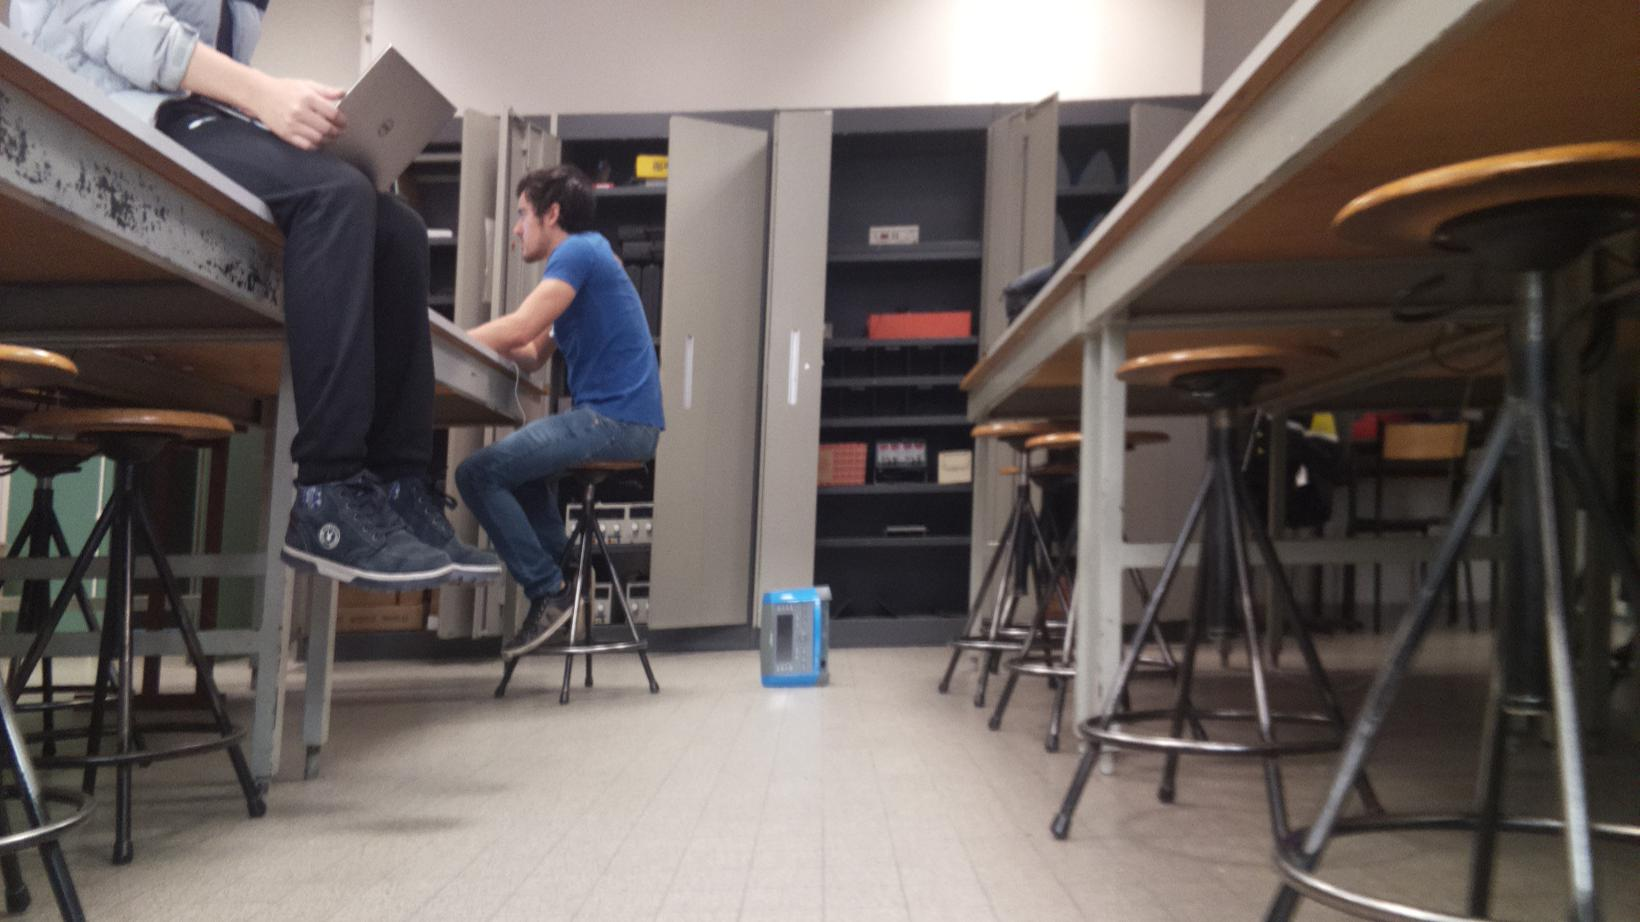medium: (754, 582, 837, 693)
